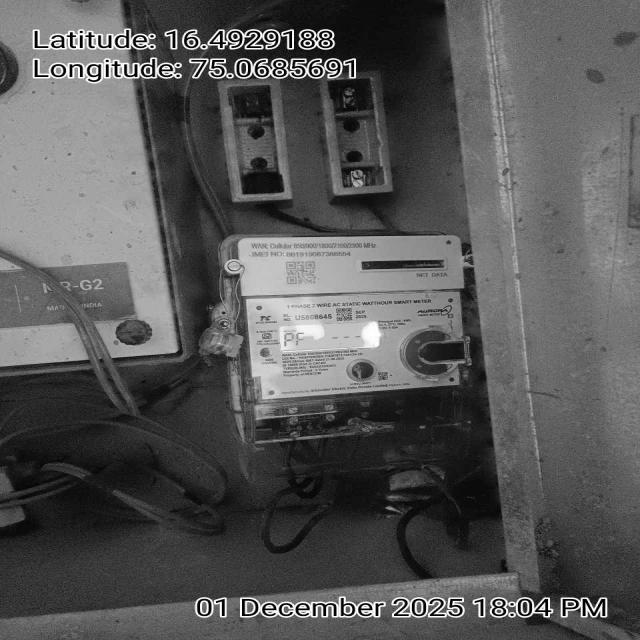meter: (240, 237, 474, 400)
